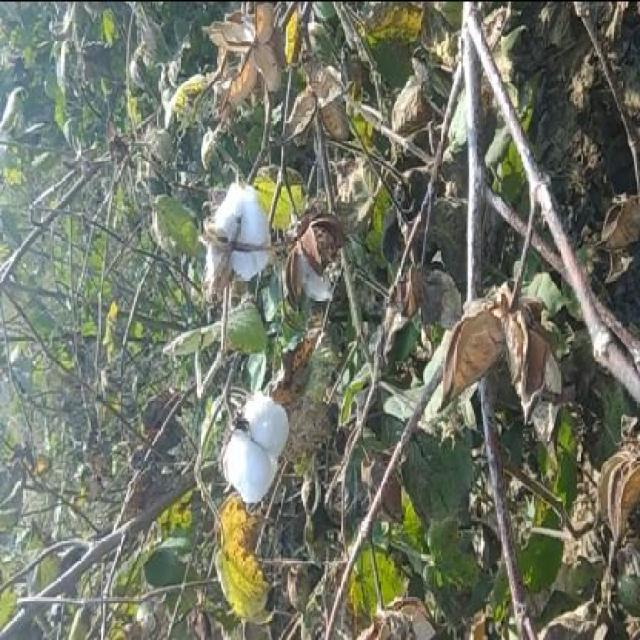cotton_ready: (222, 361, 307, 537), (199, 162, 290, 303)
